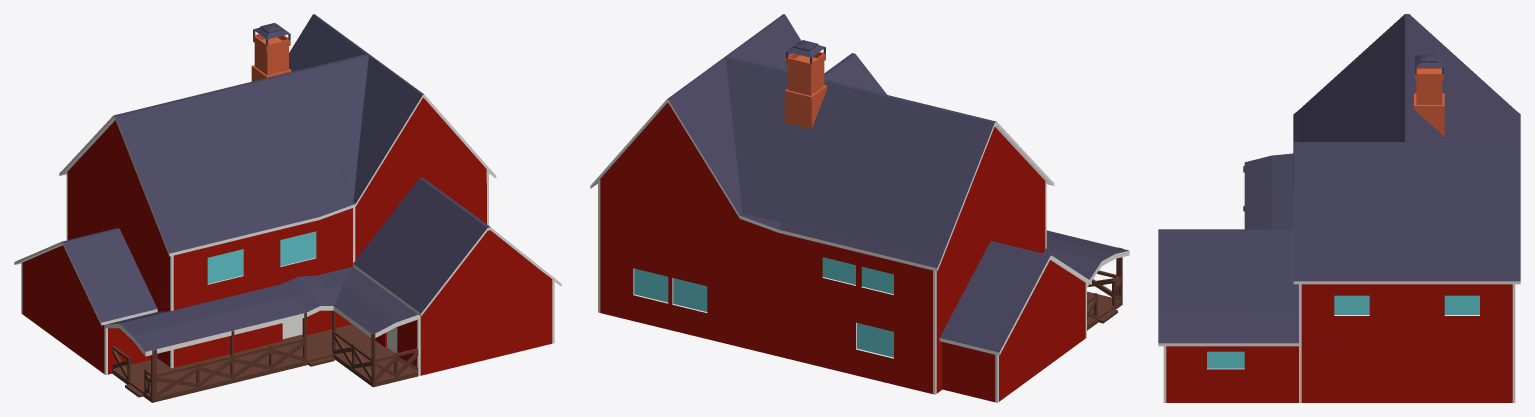
File: Farmi_MainTalo.fbx
3 views of the same model, side by side, from view 1: azimuth 30°, elevation 25°; view 2: azimuth 150°, elevation 25°; view 3: azimuth 270°, elevation 25° (orthographic). The views are drawn at different scales.
Parts seen in each view (by area): view 1: House; view 2: House; view 3: House.
Boxes of the visible parts, left/top/right/bottom form: House: left=14, top=14, right=561, bottom=402; House: left=590, top=14, right=1129, bottom=402; House: left=1158, top=14, right=1520, bottom=402.
Size of the model in its own units: 1670 by 1098 by 1340.
